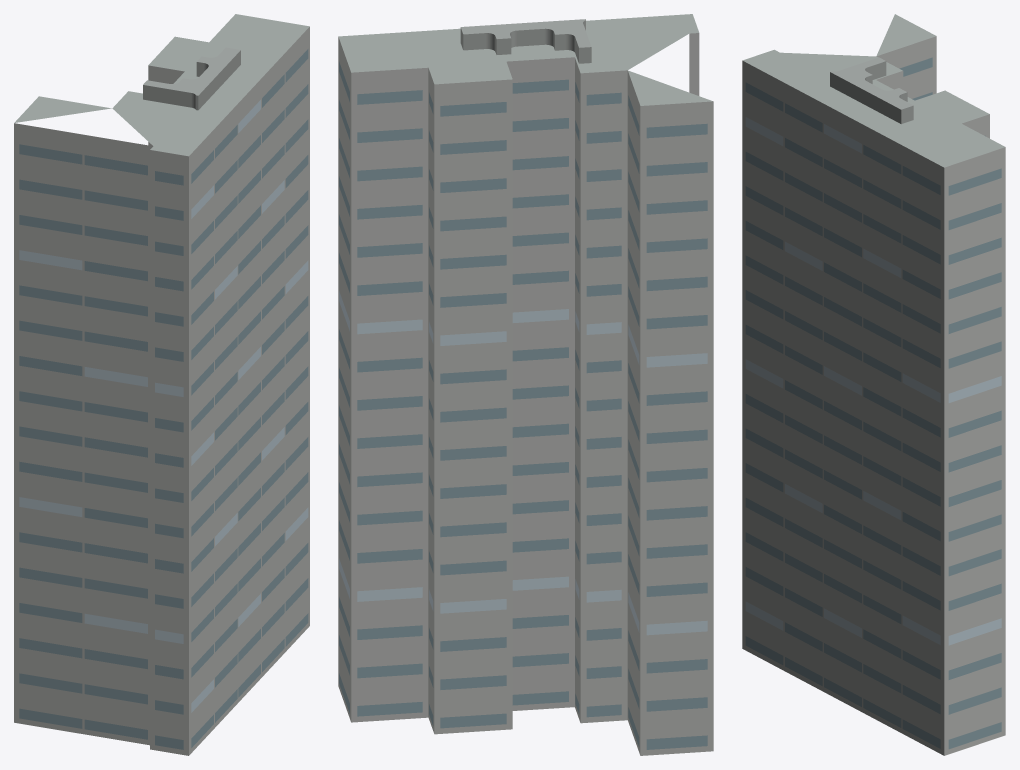
The model's file is fallback-gaepo-raemian-forest-119.glb.
3 renders of one model, left to right at view 1: azimuth 30°, elevation 25°; view 2: azimuth 150°, elevation 25°; view 3: azimuth 270°, elevation 25°, orthographic. The views are drawn at different scales.
Parts seen in each view (by area): view 1: fallback-gaepo-raemian-forest-119; view 2: fallback-gaepo-raemian-forest-119; view 3: fallback-gaepo-raemian-forest-119.
Part boxes in pixels (box(x1,y1,x2,y2)): fallback-gaepo-raemian-forest-119: box(14, 14, 309, 755); fallback-gaepo-raemian-forest-119: box(338, 14, 713, 755); fallback-gaepo-raemian-forest-119: box(742, 14, 1005, 755).
Size of the model in its own units: 54.68 by 100 by 39.6.
